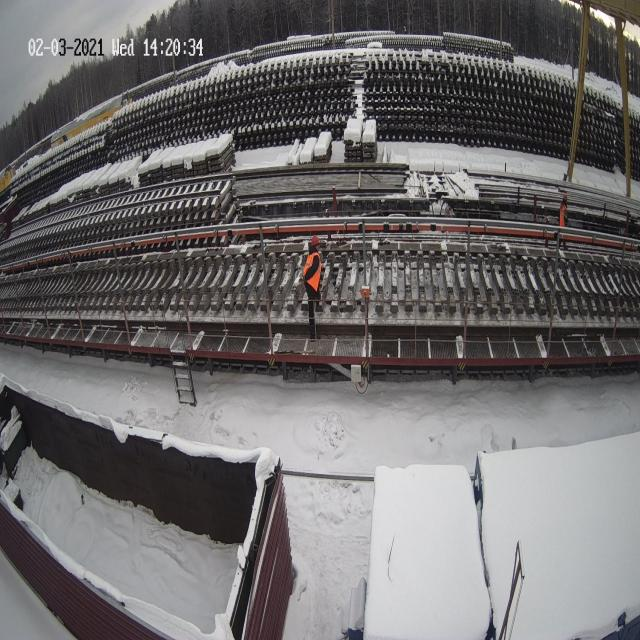Helmet: (311, 235, 319, 246)
Person: (302, 234, 322, 340), (559, 194, 568, 249)
